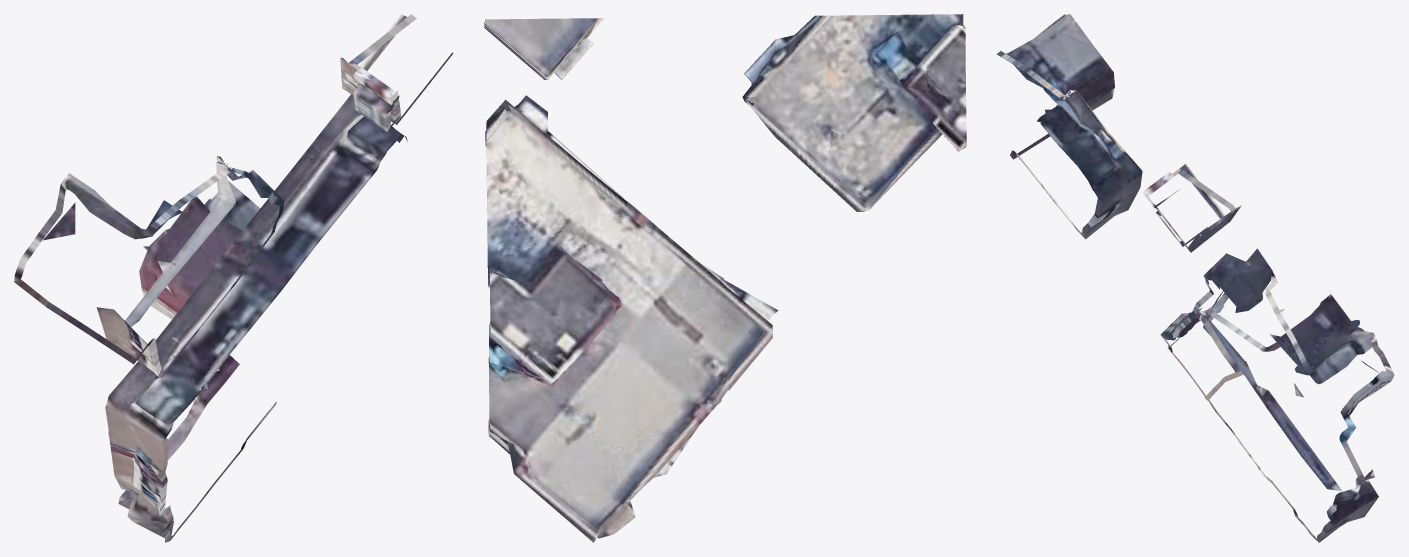
3 renders of one model, left to right at view 1: azimuth 30°, elevation 25°; view 2: azimuth 150°, elevation 25°; view 3: azimuth 270°, elevation 25°, orthographic. The views are drawn at different scales.
Size of the model in its own units: 36.04 by 37.5 by 31.52.
1 material, 1 textured.
